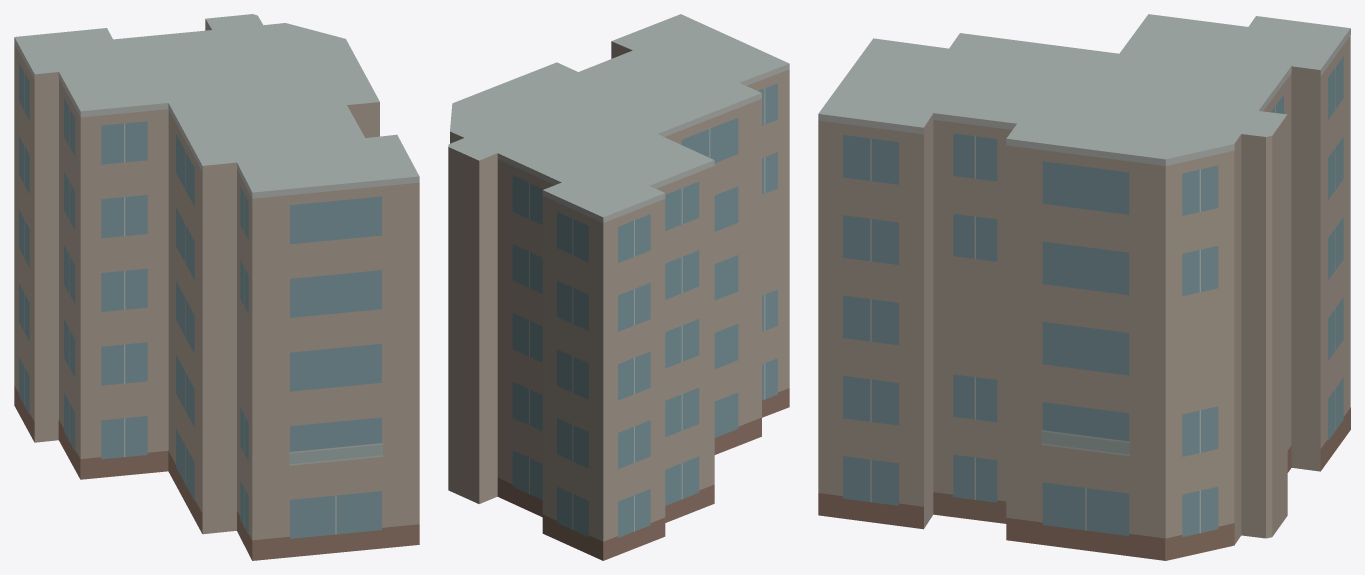
File: survey-upis-32869524.glb
3 renders of one model, left to right at view 1: azimuth 30°, elevation 25°; view 2: azimuth 150°, elevation 25°; view 3: azimuth 270°, elevation 25°, orthographic. The views are drawn at different scales.
Parts seen in each view (by area): view 1: survey-upis-32869524.tmp; view 2: survey-upis-32869524.tmp; view 3: survey-upis-32869524.tmp.
Boxes of the visible parts, left/top/right/bottom form: survey-upis-32869524.tmp: left=14, top=14, right=419, bottom=560; survey-upis-32869524.tmp: left=448, top=14, right=789, bottom=560; survey-upis-32869524.tmp: left=818, top=14, right=1350, bottom=560.
Size of the model in its own units: 11.39 by 14.65 by 17.62.
